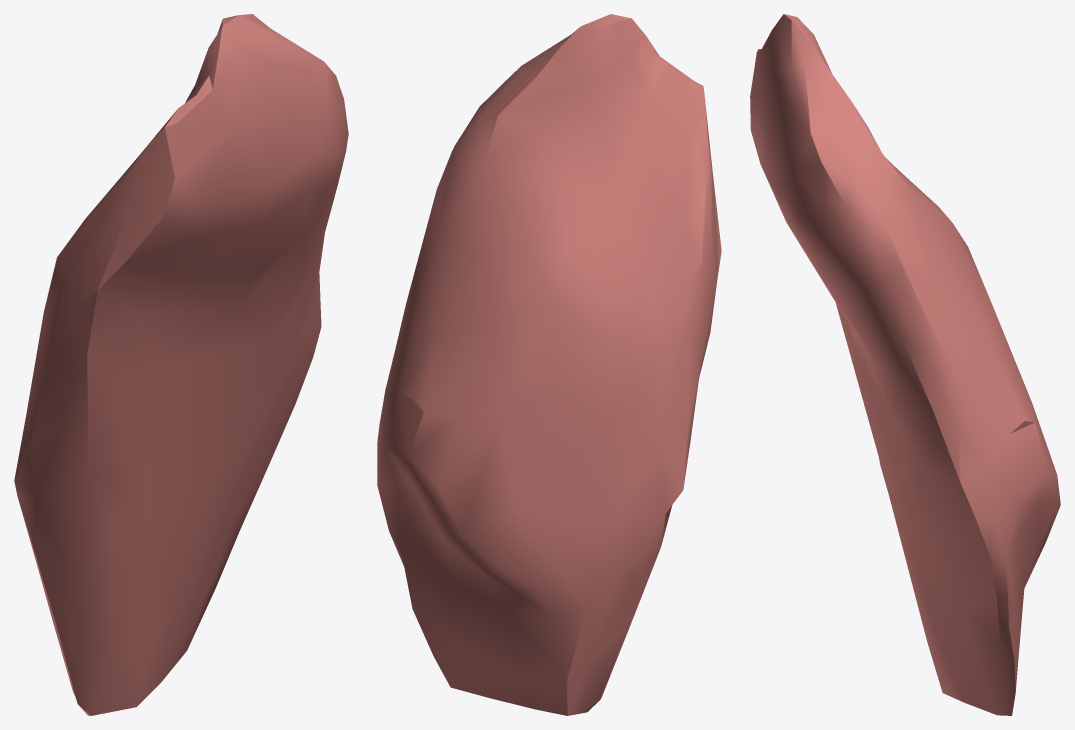
File: fma81559_mm1329m.glb
The picture shows the model from 3 angles, left to right: view 1: azimuth 30°, elevation 25°; view 2: azimuth 150°, elevation 25°; view 3: azimuth 270°, elevation 25°; orthographic projection. The views are drawn at different scales.
Visible parts, largest first — view 1: FMA81559_MM1329M; view 2: FMA81559_MM1329M; view 3: FMA81559_MM1329M.
Boxes of the visible parts, left/top/right/bottom form: FMA81559_MM1329M: left=14, top=14, right=348, bottom=715; FMA81559_MM1329M: left=377, top=14, right=721, bottom=715; FMA81559_MM1329M: left=750, top=14, right=1060, bottom=715.
Size of the model in its own units: 0.00515 by 0.0112 by 0.0046.
